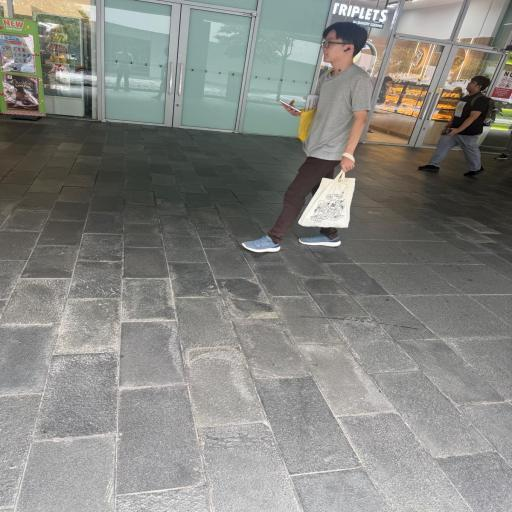person_left: (242, 21, 374, 253), (418, 75, 495, 177)
